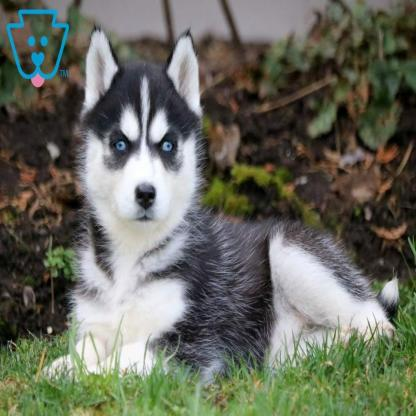dog: (49, 33, 401, 378)
